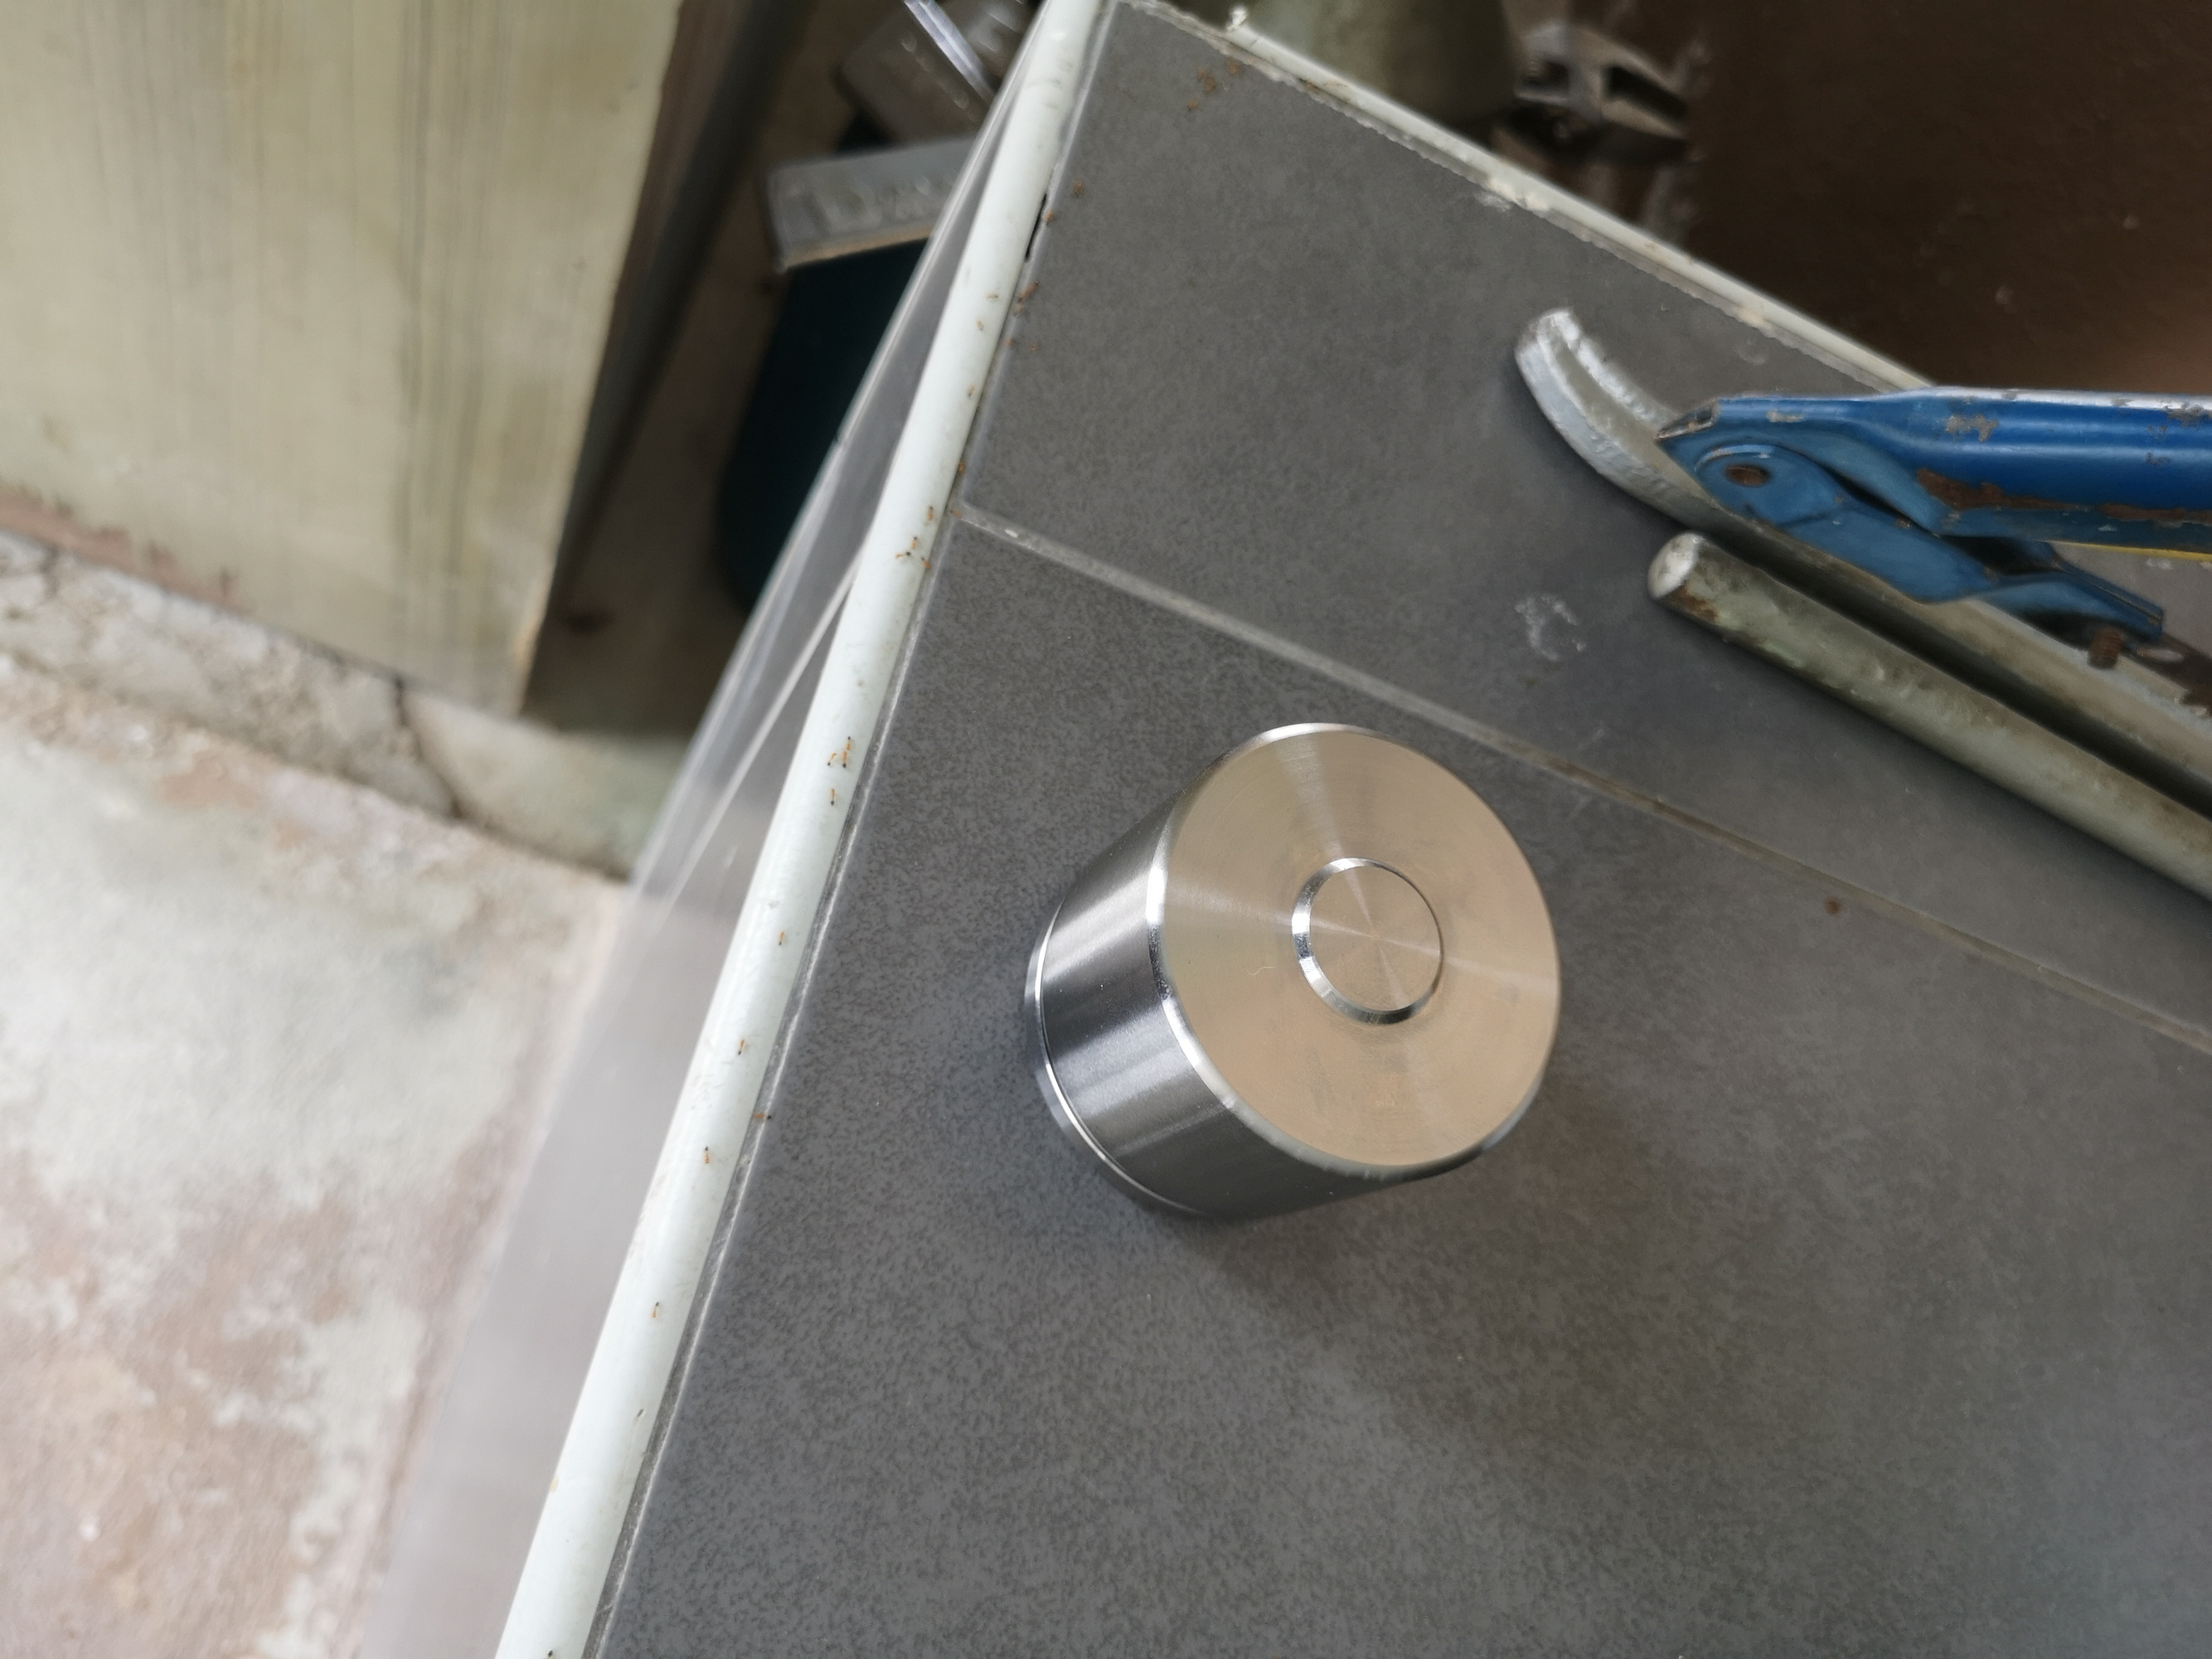ลูกสูบดิสเบรค: (982, 674, 1588, 1295)
